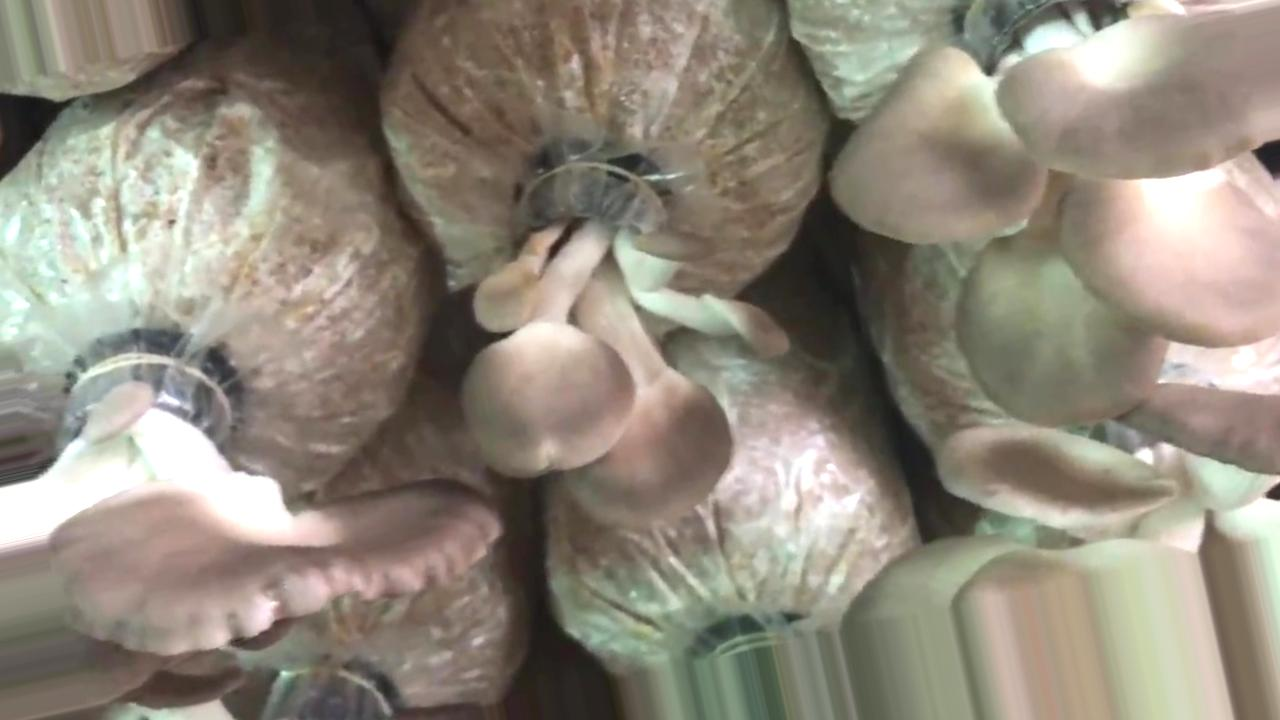nam: (835, 1, 1277, 425), (1, 345, 505, 701), (473, 139, 800, 530), (896, 412, 1280, 603)
